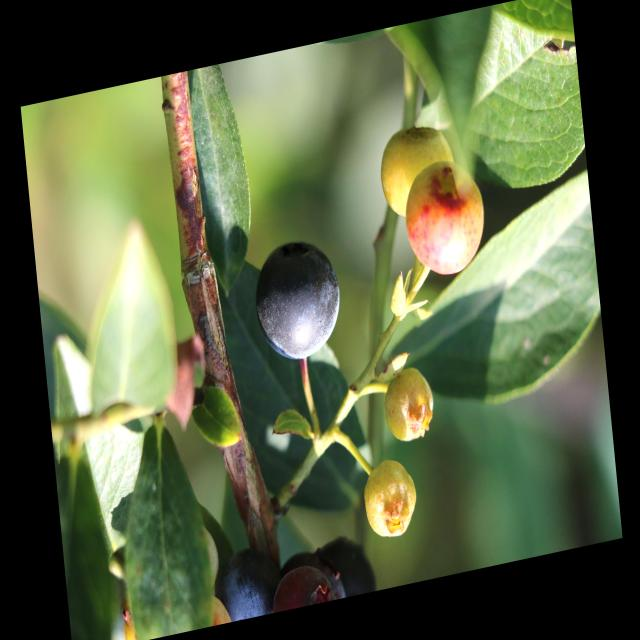blueberry: (242, 227, 348, 374), (204, 533, 284, 626)
blueberry-halfripe: (398, 156, 491, 286)
blueberry-unripe: (377, 119, 459, 221), (377, 354, 439, 445), (360, 455, 420, 545)
